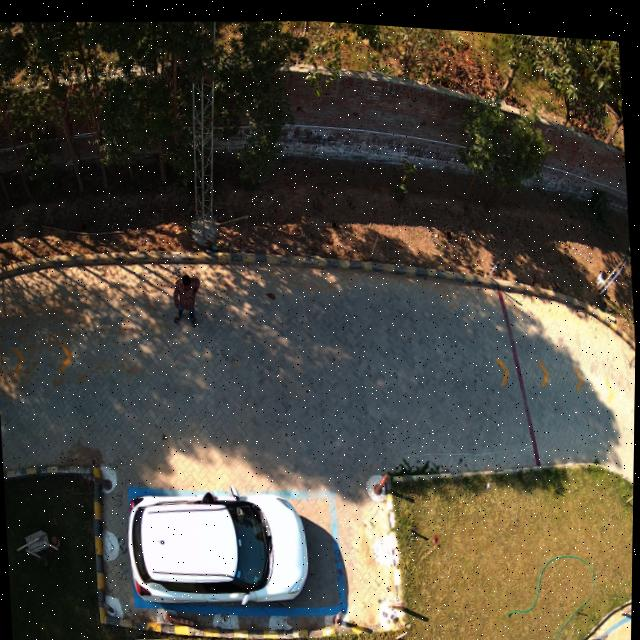car: (128, 490, 310, 599)
